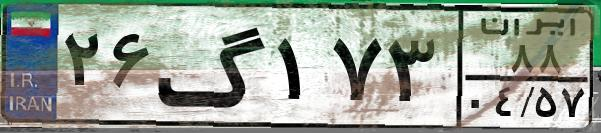0: (470, 70, 495, 125)
1: (270, 28, 330, 110)
2: (57, 26, 110, 100)
3: (385, 28, 445, 110)
4: (495, 70, 520, 125)
5: (535, 70, 560, 125)
6: (110, 28, 156, 98)
7: (330, 28, 385, 110), (560, 70, 590, 125)
8: (537, 27, 568, 80), (508, 27, 537, 80)
گ: (156, 12, 270, 120)
